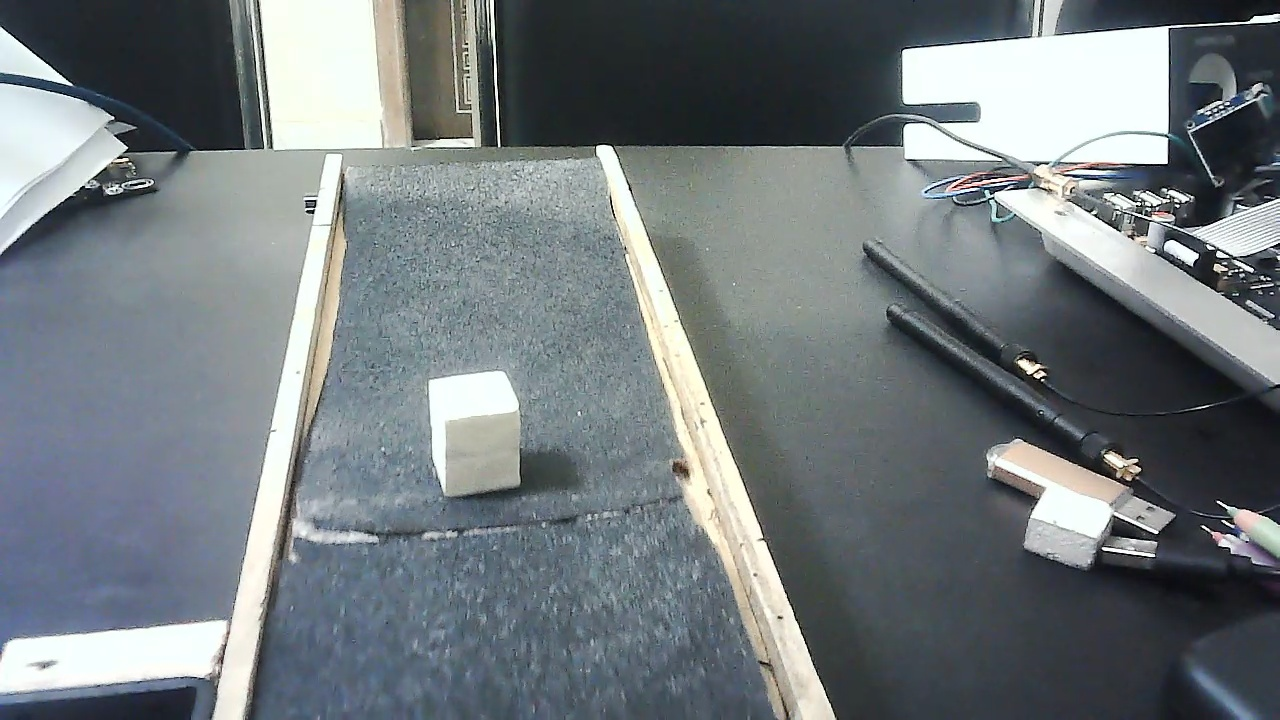Small: (411, 369, 538, 496)
